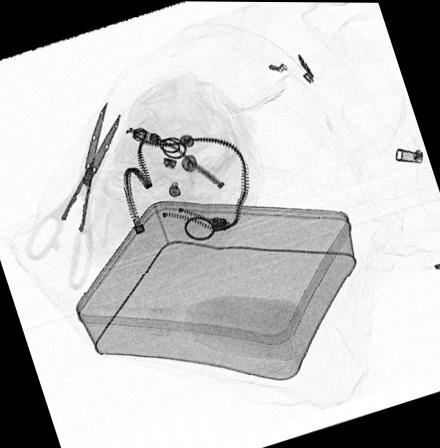Scissors: (24, 100, 121, 292)
